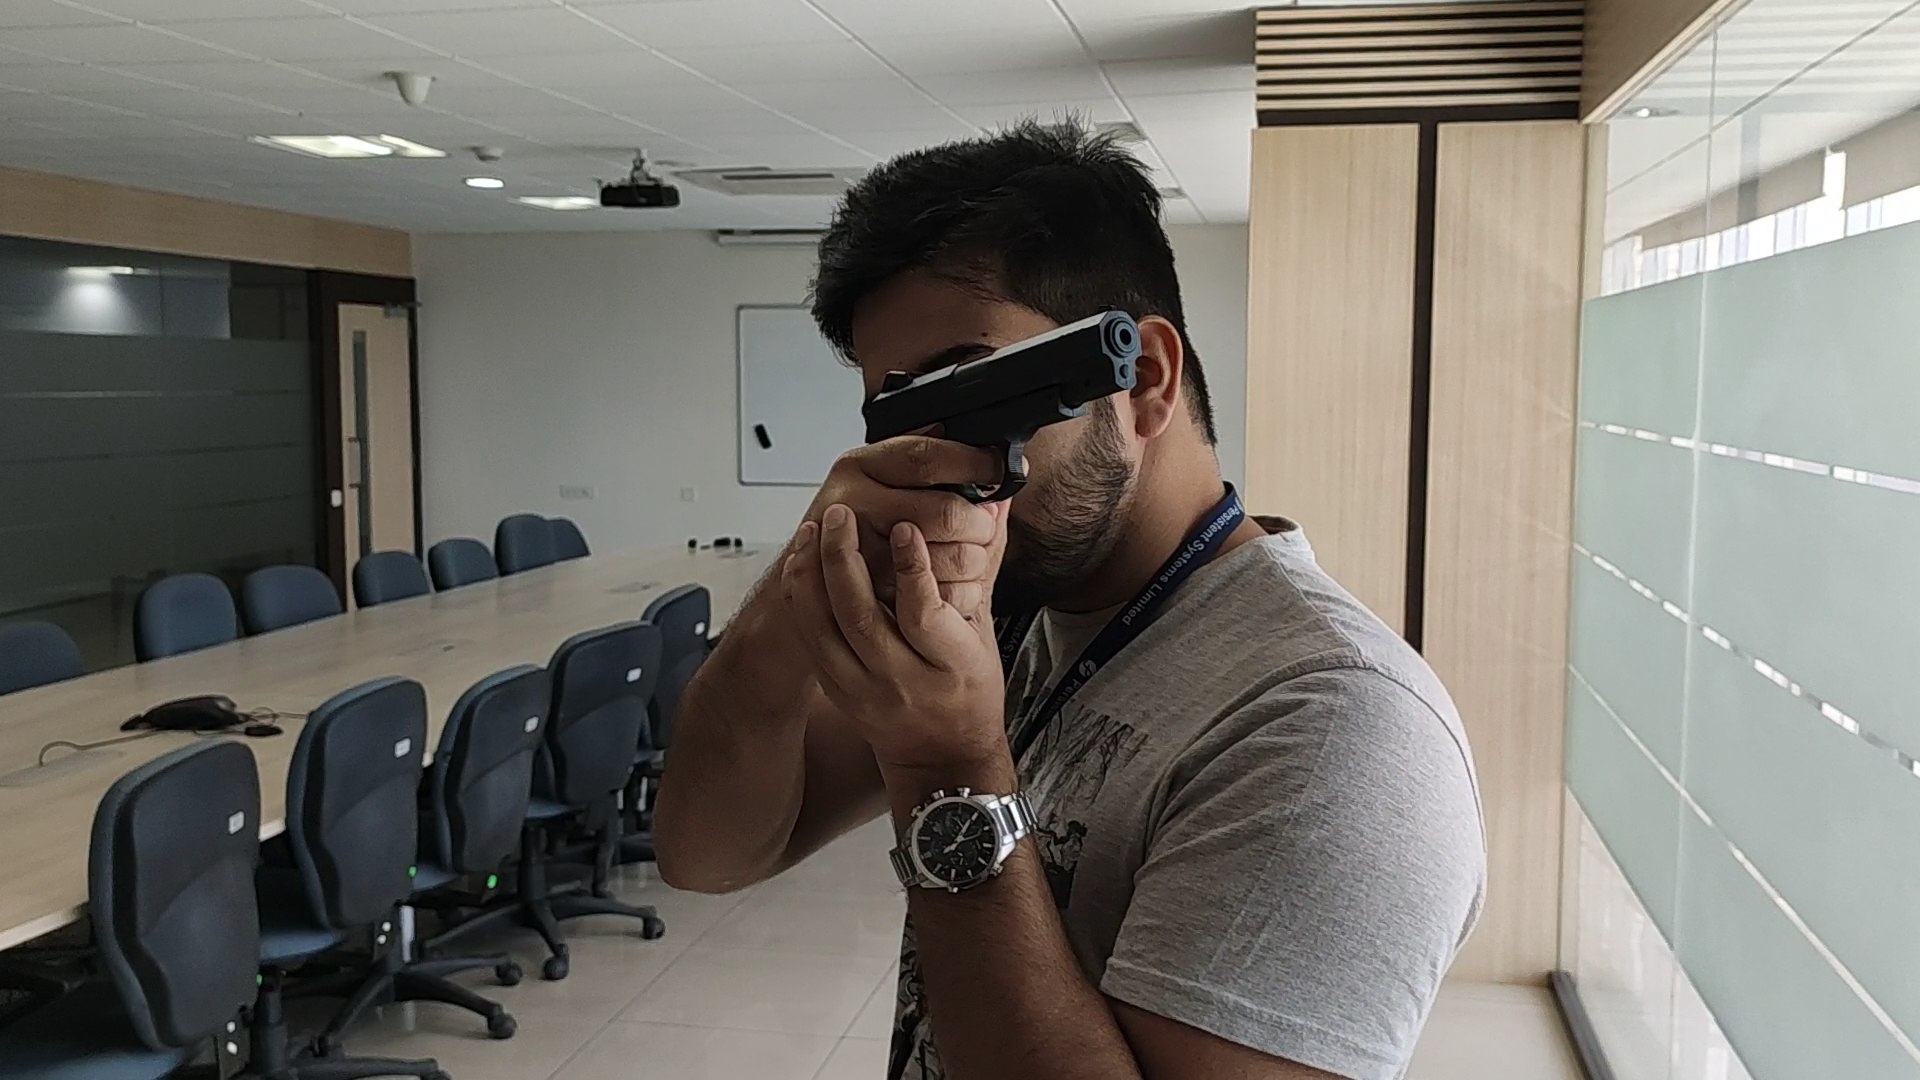gun: (862, 314, 1139, 435)
